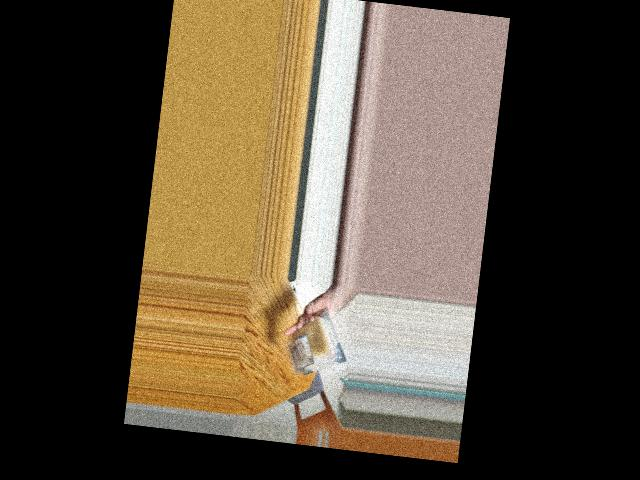cheese: (282, 309, 343, 383)
